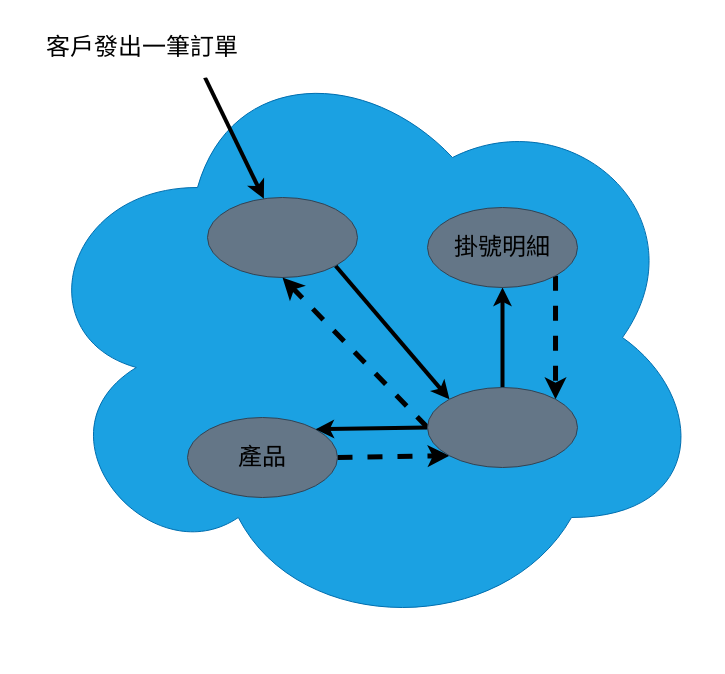
Image size: 725x674. Some labels were removed from this diagram. The shapes that lost their labels are listed below. From the top down, each one's centre as x and y in pixels, then its label:
At (282,237): "病人".
At (502,427): "掛號".
